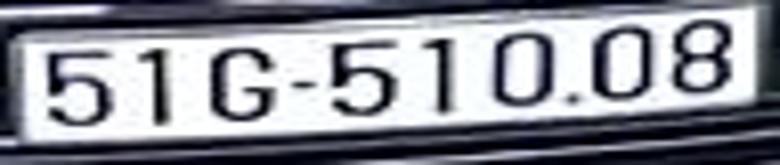-: (292, 82, 314, 90)
.: (565, 93, 577, 101)
0: (593, 24, 649, 97), (495, 33, 550, 105)
1: (137, 50, 173, 125), (428, 39, 456, 114)
5: (328, 42, 397, 114), (46, 52, 112, 127)
8: (673, 19, 731, 90)
G: (209, 45, 280, 117)
